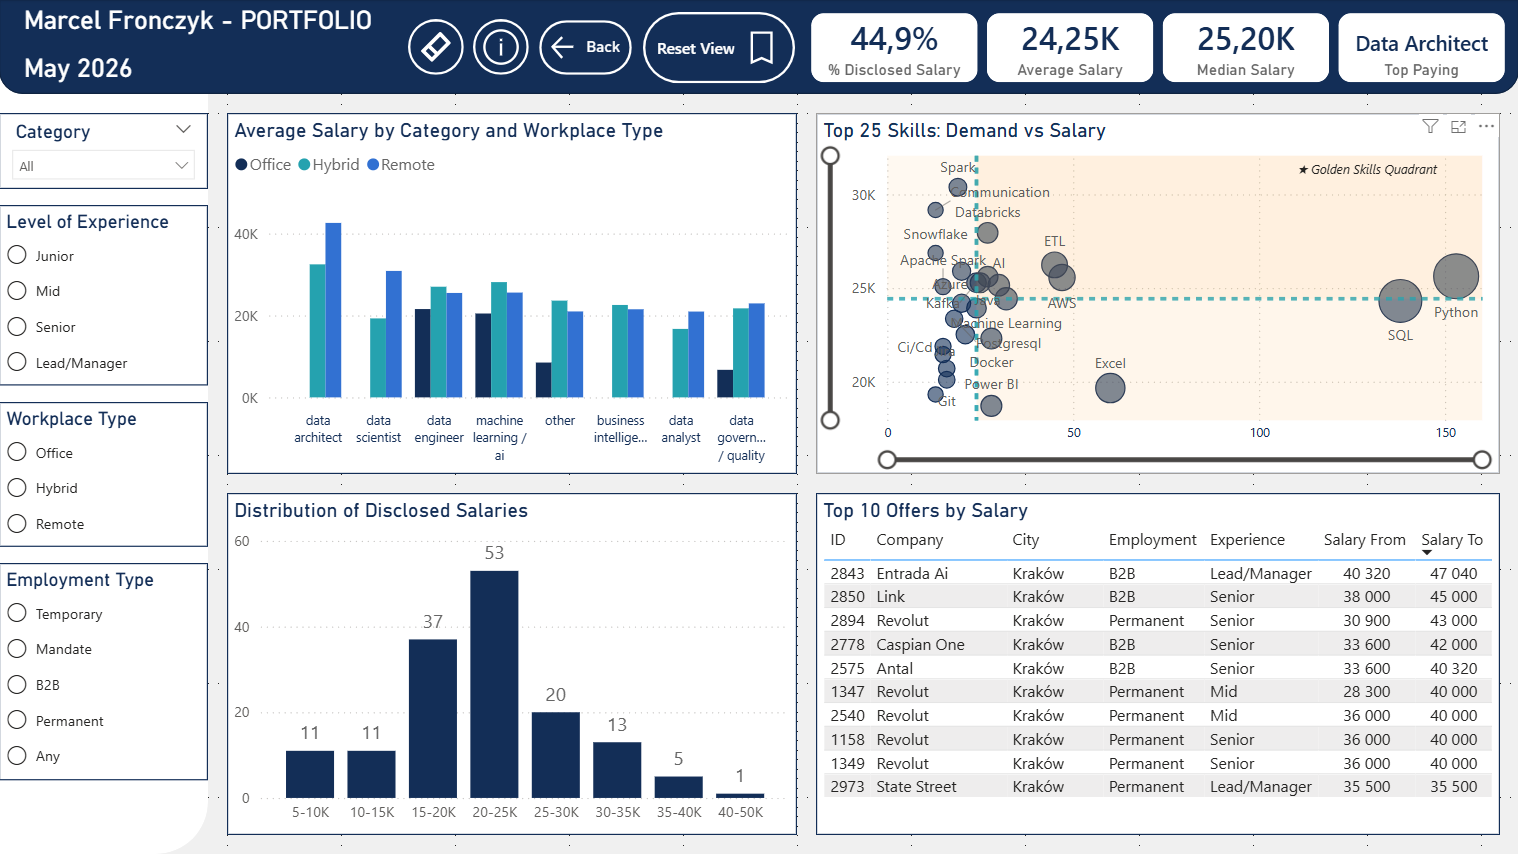

This screenshot's page, from the dashboard's own definition file:
{"tool":"powerbi","page":{"name":"Salary","canvas":[1280,720],"ordinal":1},"visuals":[{"type":"shape","title":"Slicer Tab","box":[0,0,176,720],"z":0},{"type":"shape","title":"Header","box":[0,0,1280,80],"z":1000},{"type":"textbox","box":[16,0,320,96],"z":2000},{"type":"clusteredColumnChart","title":"Average Salary by Category and Workplace Type","fields":{"Category":["Offers.category"],"Y":["Offers.Average Salary"],"Series":["Offers.Workplace Type"]},"box":[192,96,480,304],"z":3000},{"type":"clusteredColumnChart","title":"Distribution of Disclosed Salaries","fields":{"Category":["Offers.Salary Bin"],"Y":["Offers.Total Offers"]},"box":[192,416,480,288],"z":4000},{"type":"scatterChart","title":"Top 25 Skills: Demand vs Salary","fields":{"Category":["OfferSkills.Skill"],"X":["OfferSkills.Skill demand"],"Y":["OfferSkills.Avg Salary per Skill"],"Size":["OfferSkills.Skill demand"]},"box":[688,96,576,304],"z":5000},{"type":"listSlicer","title":"Level of Experience","fields":{"Values":["Offers.experience_level"]},"box":[0,173.7,176,152],"z":6000},{"type":"listSlicer","title":"Workplace Type","fields":{"Values":["Offers.workplace_type"]},"box":[0,339.3,176,122],"z":7000},{"type":"tableEx","title":"Top 10 Offers by Salary","fields":{"Values":["Offers._offerID","Offers.Company","Offers.City","Offers.Employment Type","Offers.Level of Experience","Offers.Salary From","Offers.Salary to"]},"box":[688,416,576,288],"z":8000},{"type":"slicer","title":"Category Slicer","fields":{"Values":["Offers.category"]},"box":[0,96,176,64],"z":9000},{"type":"listSlicer","title":"Employment Type","fields":{"Values":["Offers.employment_type"]},"box":[0,475,176,183],"z":10000},{"type":"cardVisual","title":"KPIs","fields":{"Data":["Offers.Disclosed Salary%","Offers.Salary Average","Offers.Salary Median","OfferSkills.Top Paying Category"]},"box":[672,0,608,82],"z":11000},{"type":"actionButton","title":"Clear Slicers","box":[344,17,47,47],"z":12000},{"type":"actionButton","title":"Reset View Button","box":[542,11,128,60],"z":13000},{"type":"actionButton","title":"Previous Page","box":[454,17,80,48],"z":14000},{"type":"actionButton","title":"Expand Explanation","box":[399,17,47,47],"z":16000},{"type":"textbox","title":"Scatter Textbox","box":[1088,128,144,32],"z":18000}]}

Visuals, with their boxes in screenshot pixels (x1, y1, x2, y2), scaled from the page's 1280x720 canvas onto the 1518x854 screenshot:
"Slicer Tab" shape: <box>0,0,209,853</box>
"Header" shape: <box>0,0,1517,95</box>
textbox: <box>19,0,398,114</box>
"Average Salary by Category and Workplace Type" clusteredColumnChart: <box>228,114,797,474</box>
"Distribution of Disclosed Salaries" clusteredColumnChart: <box>228,493,797,835</box>
"Top 25 Skills: Demand vs Salary" scatterChart: <box>816,114,1499,474</box>
"Level of Experience" listSlicer: <box>0,206,209,386</box>
"Workplace Type" listSlicer: <box>0,402,209,547</box>
"Top 10 Offers by Salary" tableEx: <box>816,493,1499,835</box>
"Category Slicer" slicer: <box>0,114,209,190</box>
"Employment Type" listSlicer: <box>0,563,209,780</box>
"KPIs" cardVisual: <box>797,0,1517,97</box>
"Clear Slicers" actionButton: <box>408,20,464,76</box>
"Reset View Button" actionButton: <box>643,13,795,84</box>
"Previous Page" actionButton: <box>538,20,633,77</box>
"Expand Explanation" actionButton: <box>473,20,529,76</box>
"Scatter Textbox" textbox: <box>1290,152,1461,190</box>
